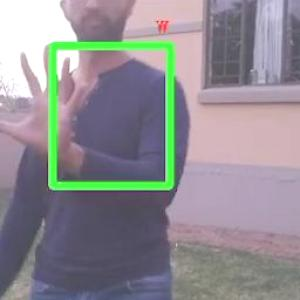follow_hand: (1, 41, 93, 156)
